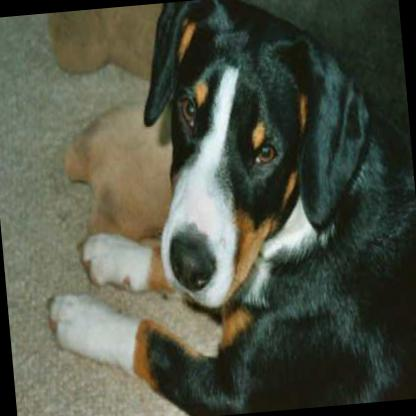EntleBucher: (22, 0, 416, 416)
